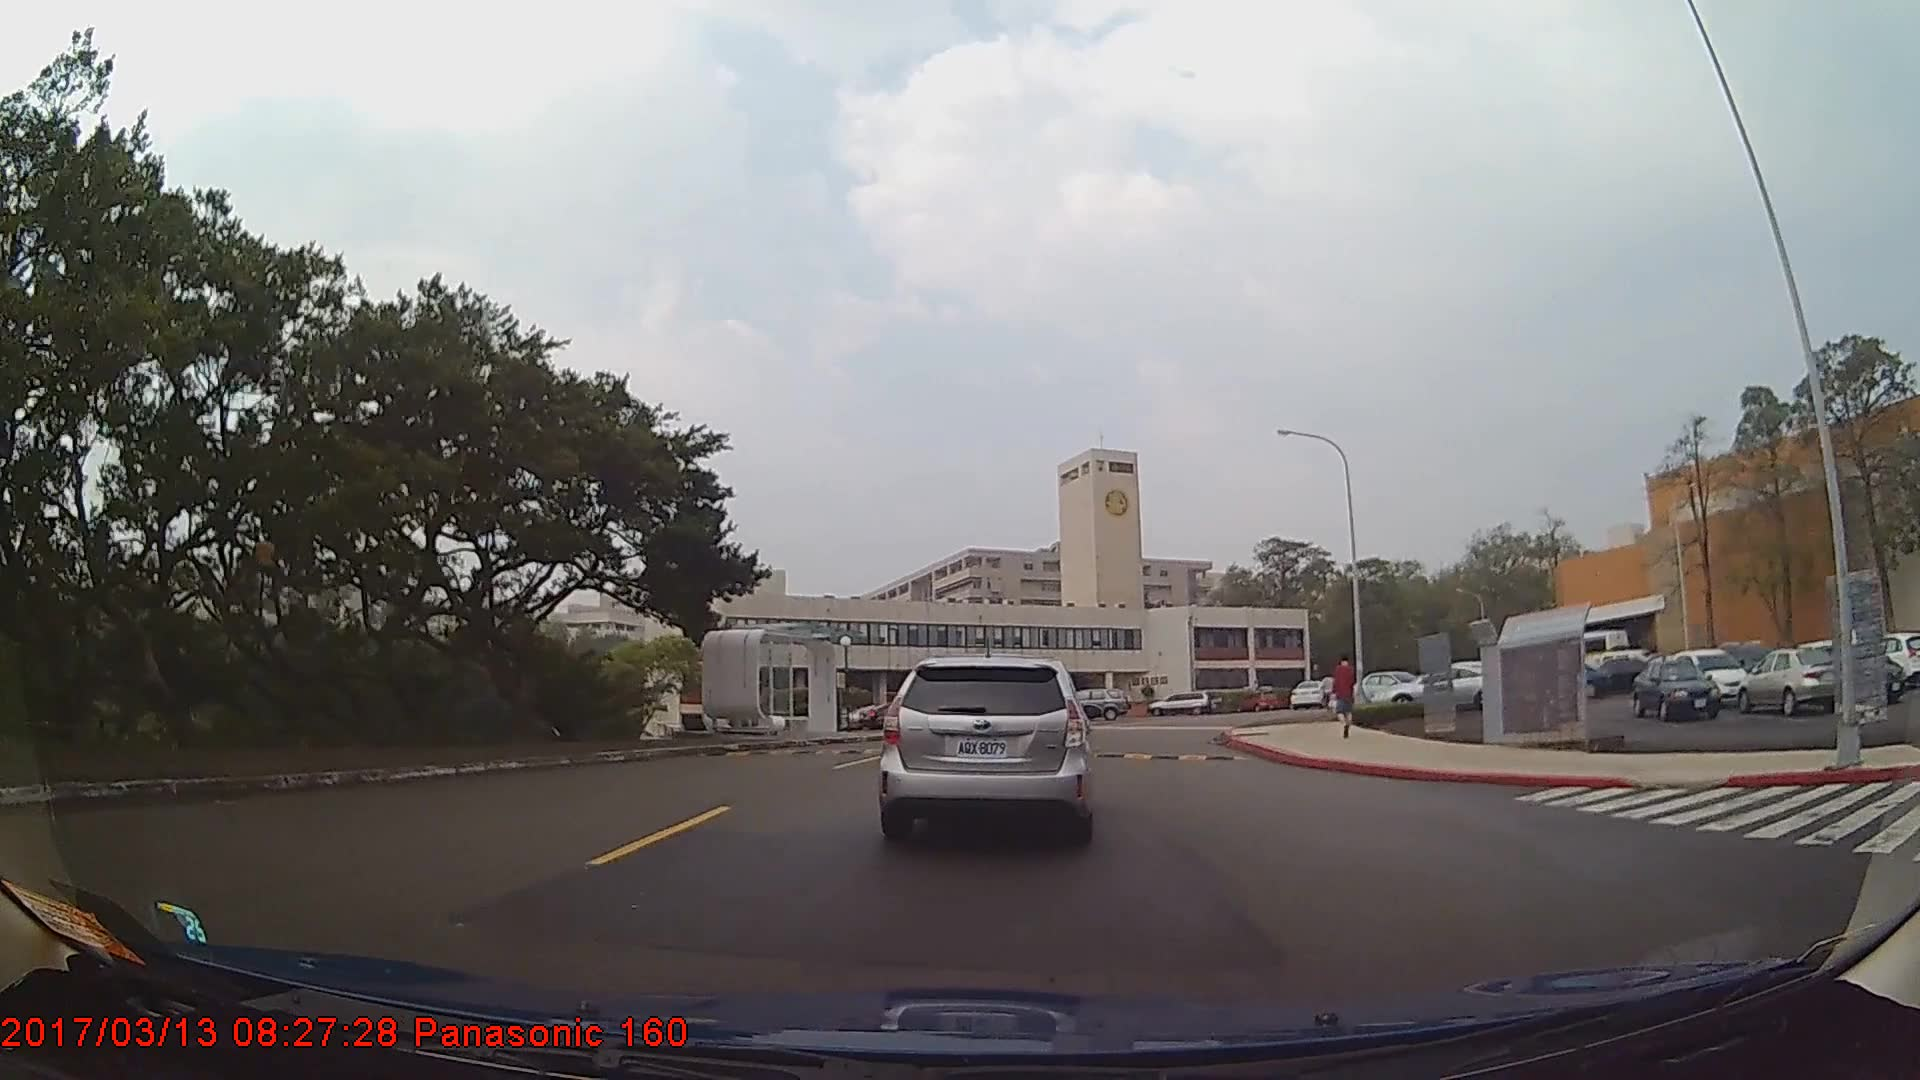pedestrian: (1330, 650, 1360, 742)
vehicle: (881, 650, 1088, 843), (1736, 647, 1844, 714), (1632, 658, 1721, 720), (1667, 644, 1748, 702), (1864, 628, 1920, 686), (1060, 682, 1130, 717), (1146, 686, 1212, 715), (1290, 676, 1331, 706)
